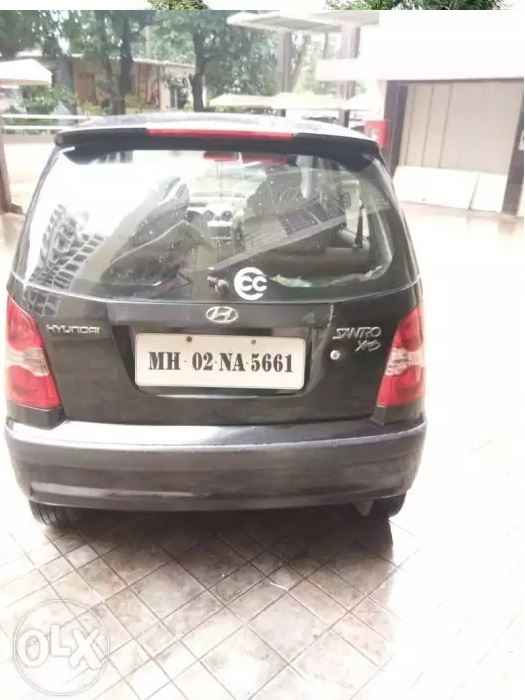licenseplate: (133, 328, 311, 398)
